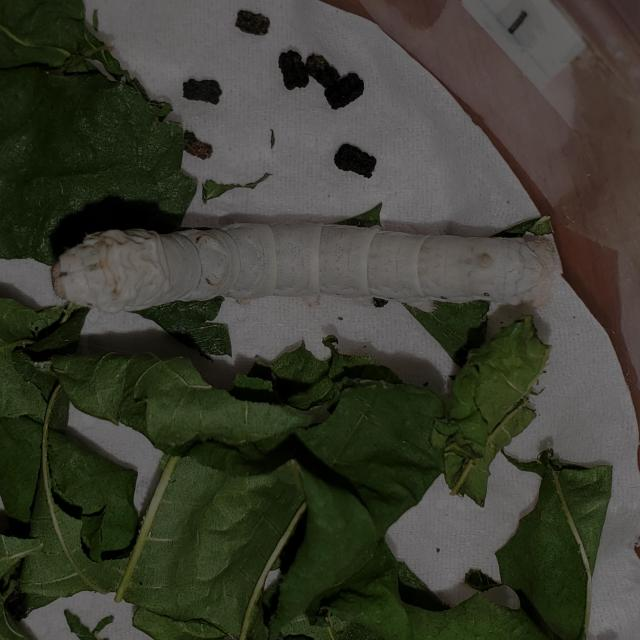Healthy: (46, 204, 564, 330)
